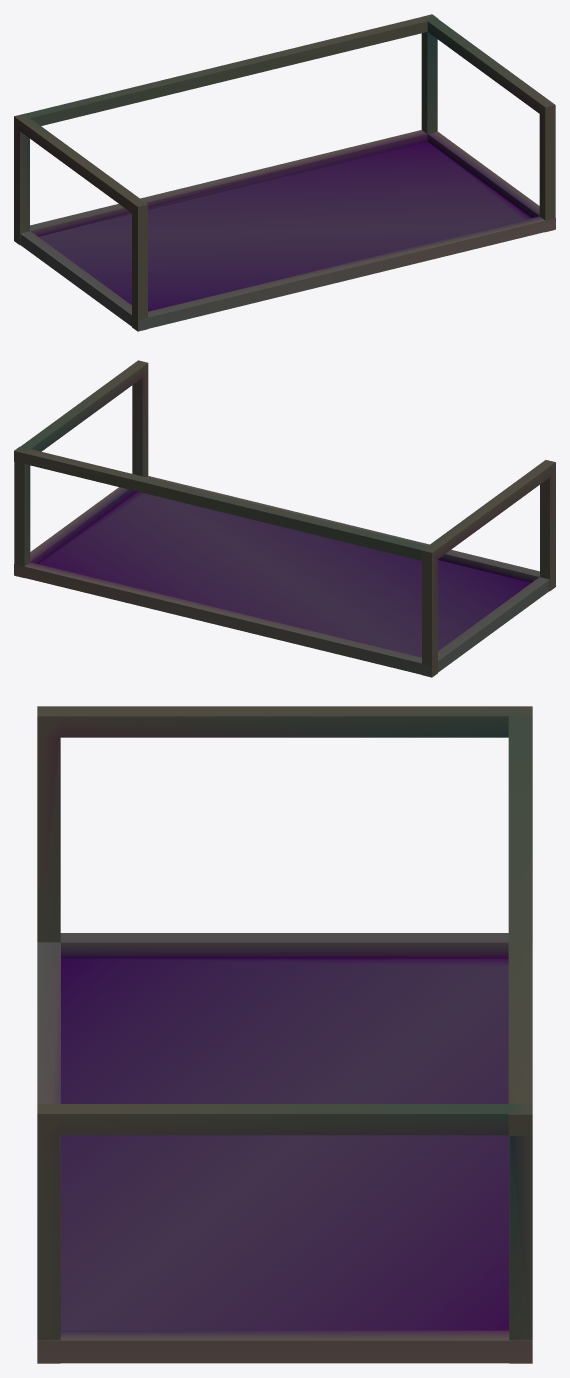
3 views of the same model, one above another, from view 1: azimuth 30°, elevation 25°; view 2: azimuth 150°, elevation 25°; view 3: azimuth 270°, elevation 25° (orthographic). The views are drawn at different scales.
Parts seen in each view (by area): view 1: floor, rail, upright, upright.001; view 2: floor, rail, upright, upright.001; view 3: floor, upright.001, upright, rail.
Part boxes in pixels (x1,y1,x2,y2): floor: (20, 130, 555, 331); rail: (24, 14, 437, 125); upright: (14, 114, 147, 331); upright.001: (421, 14, 555, 232); floor: (14, 476, 549, 677); rail: (14, 446, 427, 560); upright: (422, 460, 555, 677); upright.001: (14, 360, 148, 577); floor: (37, 933, 532, 1363); upright.001: (37, 1104, 532, 1363); upright: (37, 706, 532, 942); rail: (508, 716, 532, 1135).
Size of the model in its own units: 1.19 by 0.3387 by 0.6097.
